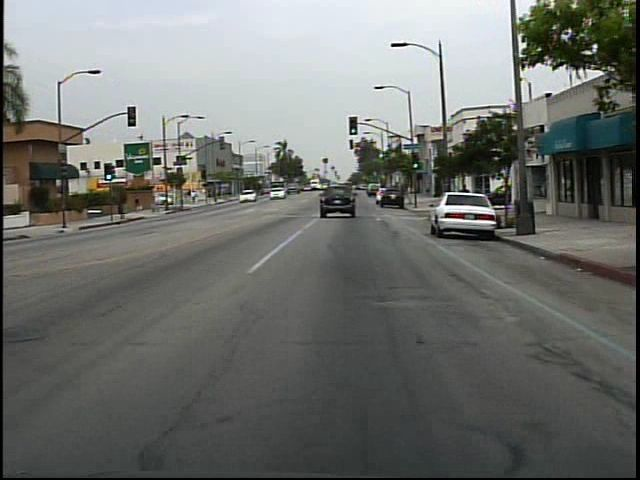person: (454, 178, 474, 217), (130, 191, 150, 220), (190, 188, 199, 206)
